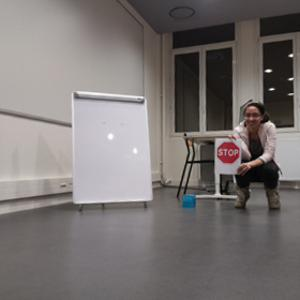big: (69, 90, 154, 207)
small: (182, 193, 196, 209)
